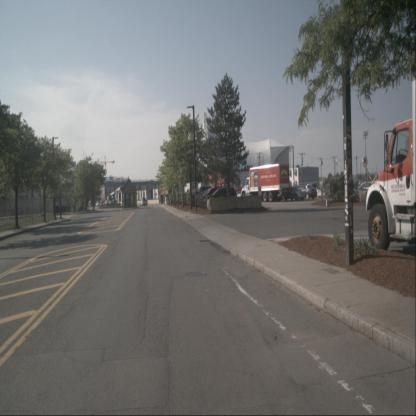movable_object-barrier: (226, 197, 246, 213), (245, 195, 262, 212), (210, 196, 226, 213)
vehicle-car: (204, 185, 238, 210), (200, 186, 228, 207), (296, 180, 318, 201), (196, 185, 213, 201), (290, 184, 305, 202), (197, 191, 210, 209), (356, 179, 370, 194), (97, 200, 101, 209)
vehicle-truck: (367, 79, 416, 250), (240, 164, 290, 202), (139, 197, 148, 207)
